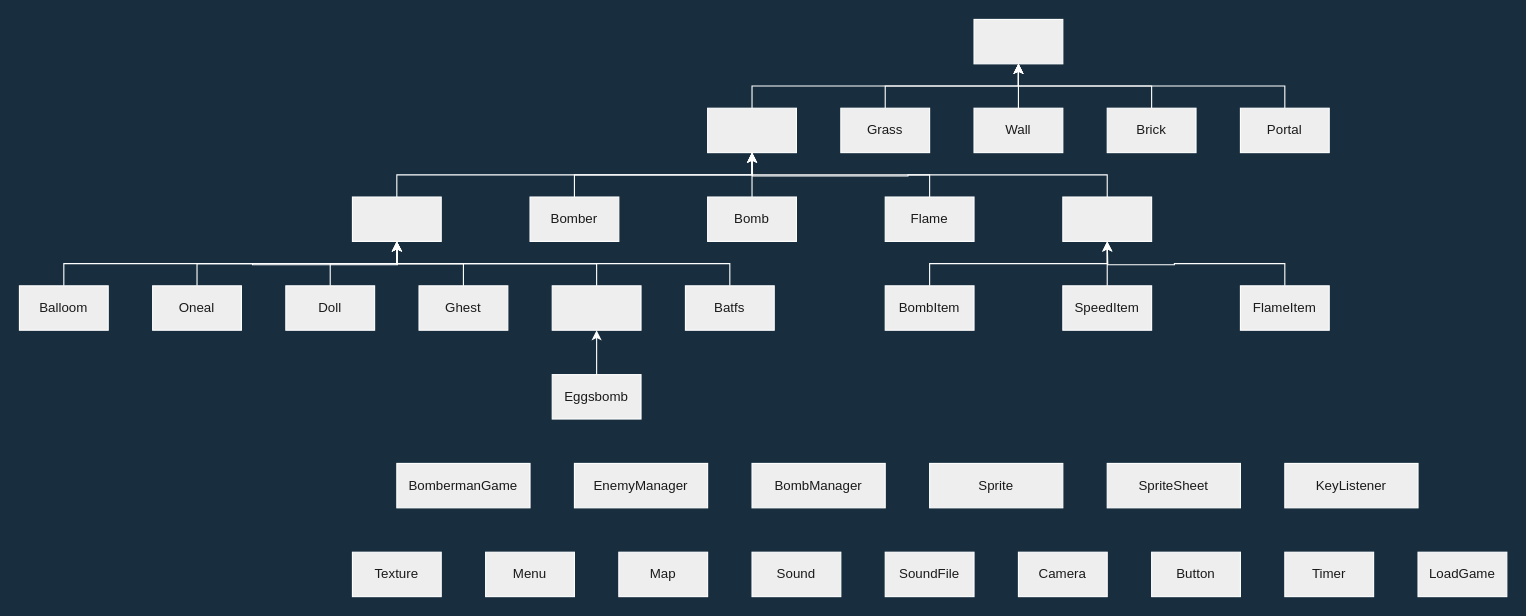
Image size: 1526x616. Some labels were removed from this diagram. The shapes that lost their labels are listed below. From the top down, each one's centre as x and y in pixels, then its label:
At [1018,41]: "Entity".
At [751,130]: "DynamicEntity".
At [396,218]: "Enemy".
At [1107,218]: "Item".
At [596,307]: "Eggs".
